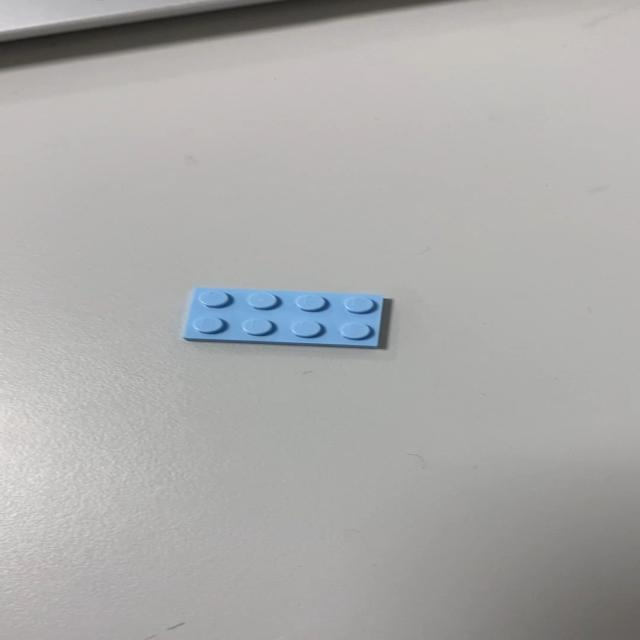C4x2x0: (181, 286, 385, 349)
